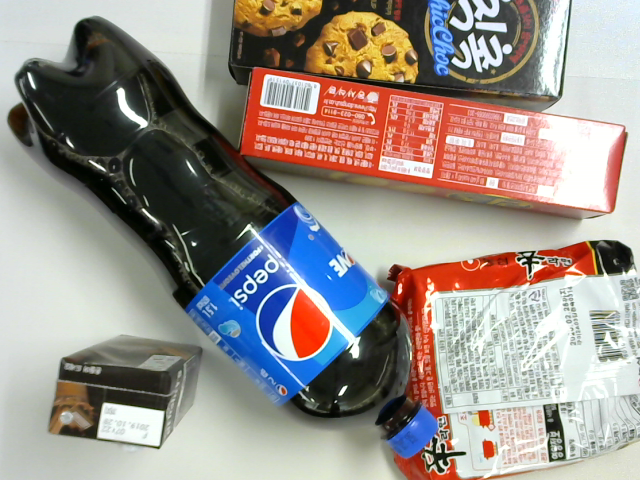Chicchok_Original_2400: (245, 1, 571, 102)
Hush_Choco_Drink: (42, 326, 197, 447)
Pepsi_Cola_1.5L: (26, 1, 435, 434)
Ritz_Cracker: (238, 70, 640, 224)
Sinramen: (394, 233, 631, 479)
